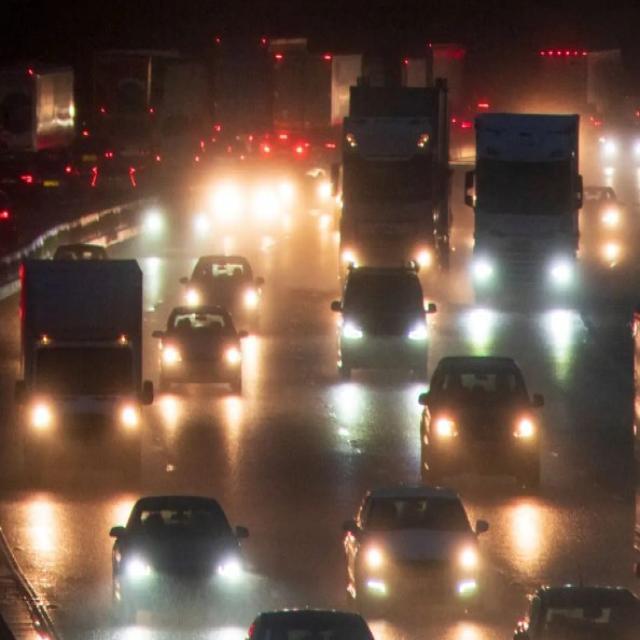car: (344, 485, 486, 618), (103, 492, 249, 616), (418, 355, 542, 489), (332, 262, 436, 378), (153, 304, 250, 398), (182, 253, 264, 327), (577, 184, 626, 243)
truck: (16, 257, 152, 485), (337, 80, 453, 281), (465, 110, 582, 300)
